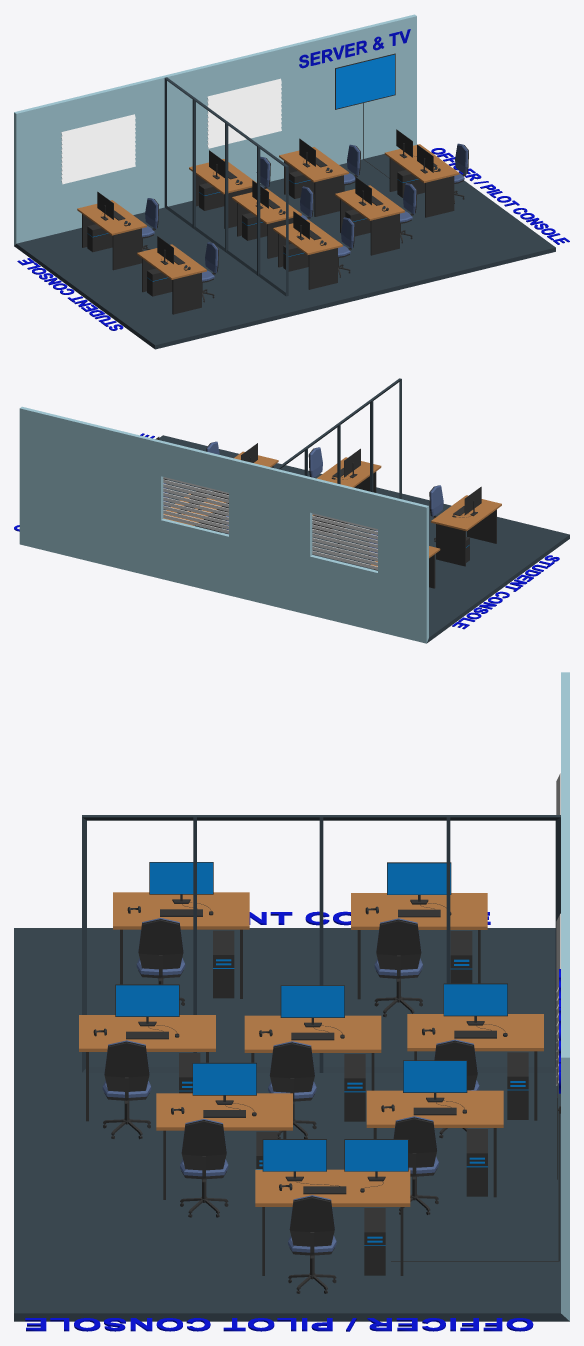
The model's file is room_layout.glb.
3 renders of one model, top to bottom at view 1: azimuth 30°, elevation 25°; view 2: azimuth 150°, elevation 25°; view 3: azimuth 270°, elevation 25°, orthographic. The views are drawn at different scales.
Parts seen in each view (by area): view 1: Room, Table (×7), Curtain, Plane.001, CPU (×6), Plane (×5), Large TV, Table.001, Text.001, Text, Text.002, Plane.002 (+1 smaller); view 2: Room, Curtain, Table (×3), Plane.001, Text, Plane (×2), Monitor; view 3: Room, Table (×7), Plane (×7), Monitor (×7), Plane.001, CPU (×5), Table.001, Text.001, Plane.002, Monitor.001, Monitor.002, CPU.001.
Part boxes in pixels (box(x1,y1,x2,y2)): Room: box(14, 14, 555, 349); Table (×7): box(77, 147, 404, 314); Curtain: box(61, 78, 281, 184); Plane.001: box(164, 77, 288, 296); CPU (×6): box(87, 171, 314, 296); Plane (×5): box(142, 144, 416, 302); Large TV: box(335, 53, 395, 109); Table.001: box(384, 144, 459, 217); Text.001: box(431, 148, 569, 244); Text: box(17, 258, 123, 330); Text.002: box(299, 29, 410, 68); Plane.002: box(454, 143, 468, 203); Room: box(19, 406, 569, 643); Curtain: box(163, 477, 377, 569); Table (×3): box(163, 457, 501, 566); Plane.001: box(276, 378, 401, 559); Text: box(452, 555, 559, 629); Plane (×2): box(308, 447, 443, 541); Monitor: box(464, 486, 481, 516); Room: box(14, 672, 569, 1321); Table (×7): box(79, 892, 543, 1199); Plane (×7): box(102, 918, 479, 1217); Monitor (×7): box(115, 862, 507, 1104); Plane.001: box(82, 815, 560, 1072); CPU (×5): box(213, 930, 528, 1196); Table.001: box(255, 1169, 410, 1275); Text.001: box(25, 1318, 533, 1331); Plane.002: box(288, 1195, 336, 1293); Monitor.001: box(262, 1139, 326, 1181); Monitor.002: box(344, 1139, 408, 1181); CPU.001: box(364, 1208, 385, 1275).
Size of the model in its own units: 5.43 by 1.6 by 3.05.
